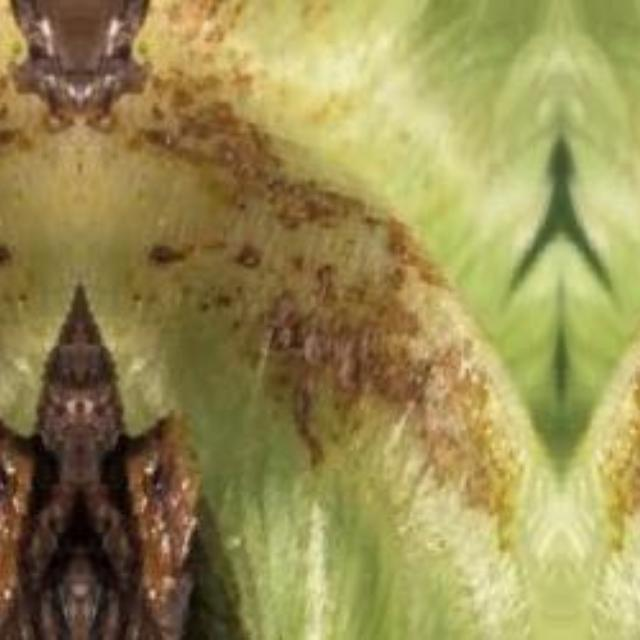Septoria_Blight: (102, 87, 556, 527), (565, 87, 640, 527), (0, 87, 55, 527)
